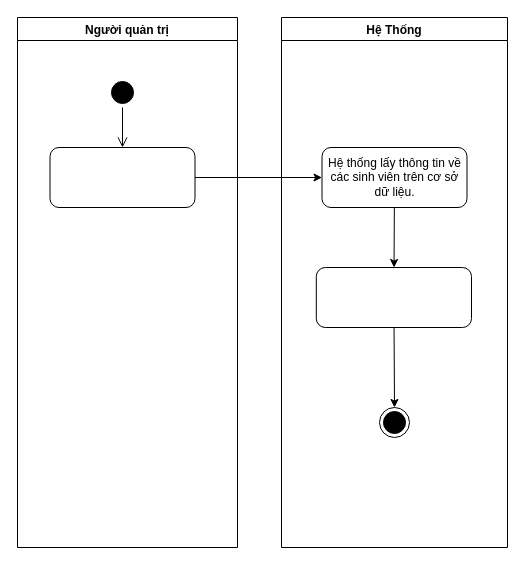
Some shapes in this 525 by 565 pixel diagram are drawn without their labels. The box of each missing label's shape, as (x1, y1, x2, y2) in pixels:
Hệ thống hiển thị sinh viên lên giao diện quản lý sinh viên.: (315, 266, 472, 328)
Người quản trị chọn chức năng quản lý sinh viên: (49, 146, 195, 208)
